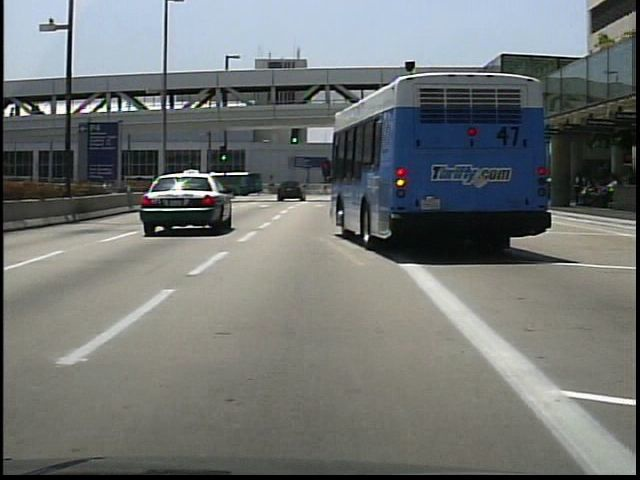person: (570, 169, 584, 207)
